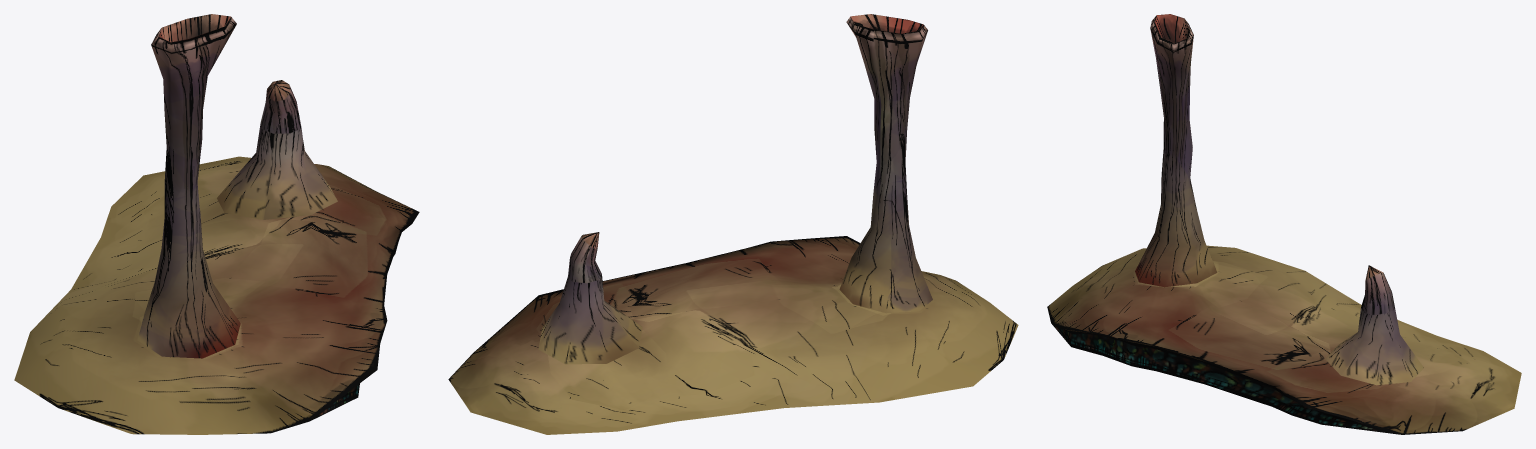
The model's file is smokestack_05.fbx.
3 renders of one model, left to right at view 1: azimuth 30°, elevation 25°; view 2: azimuth 150°, elevation 25°; view 3: azimuth 270°, elevation 25°, orthographic. The views are drawn at different scales.
Parts seen in each view (by area): view 1: SmokeStack_05; view 2: SmokeStack_05; view 3: SmokeStack_05.
Boxes of the visible parts, x1,y1,x2,y2 form: SmokeStack_05: (14,14,419,434); SmokeStack_05: (448,14,1018,434); SmokeStack_05: (1047,14,1521,434).
Bounding box in the file's own units: 33.18 × 23.77 × 36.57.
